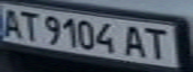0: (75, 18, 96, 52)
1: (57, 16, 78, 48)
4: (93, 20, 118, 55)
9: (39, 12, 63, 46)
A: (118, 22, 151, 60), (0, 6, 27, 38)
T: (142, 26, 175, 61), (15, 8, 42, 42)
